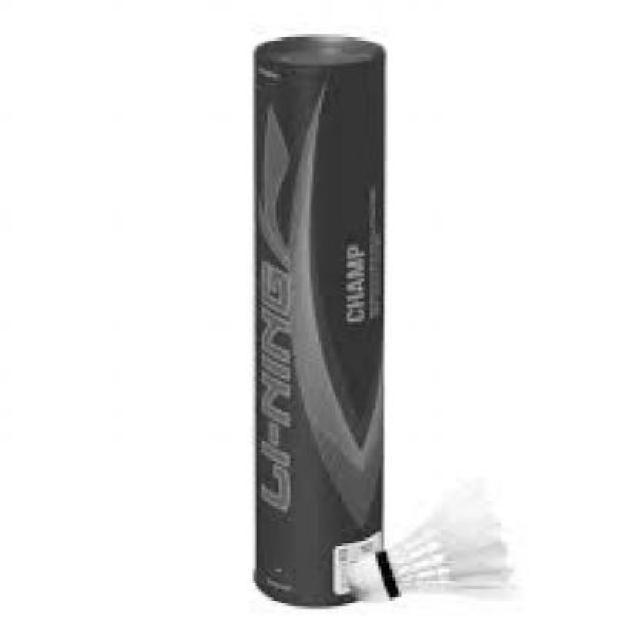Shuttlecock: (348, 470, 516, 601)
